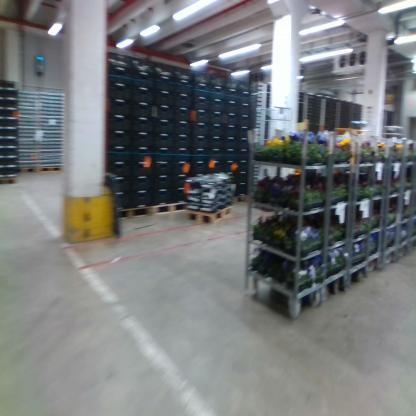pallet: (152, 191, 250, 218), (186, 198, 234, 224), (113, 197, 149, 224), (38, 164, 64, 174), (2, 175, 18, 187), (16, 166, 38, 174)
